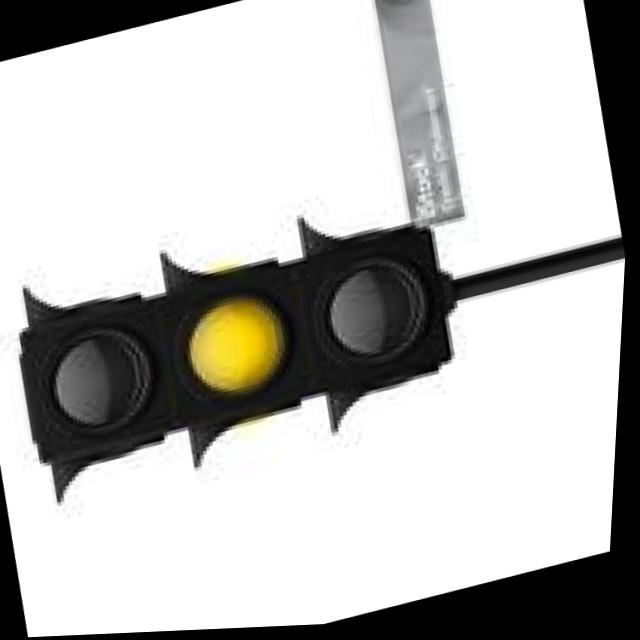yellow_light: (133, 201, 343, 467)
